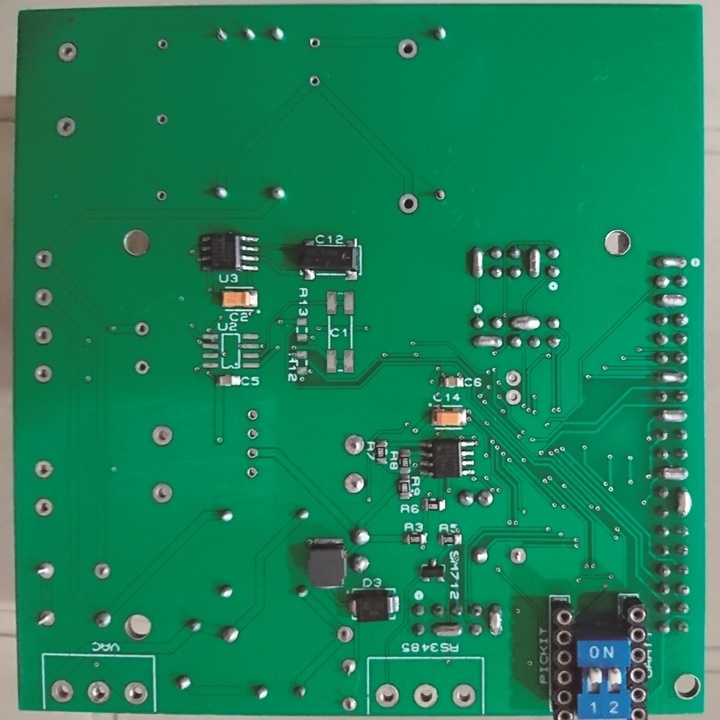F: (449, 681, 477, 712), (49, 677, 76, 706), (121, 680, 150, 706), (411, 683, 439, 709), (374, 683, 401, 709), (342, 431, 367, 459), (149, 481, 176, 506), (343, 469, 367, 497), (395, 35, 420, 61), (85, 680, 111, 704), (53, 115, 79, 138), (396, 191, 420, 215), (150, 424, 173, 449), (32, 497, 58, 519), (32, 324, 55, 347), (33, 560, 56, 583), (56, 40, 78, 63), (33, 247, 55, 270), (33, 286, 55, 309), (33, 362, 55, 385), (33, 459, 56, 481), (507, 545, 530, 567), (335, 623, 356, 646), (93, 561, 113, 582), (503, 369, 524, 389), (504, 388, 524, 409), (36, 609, 56, 629), (339, 658, 359, 678), (339, 695, 359, 714), (212, 26, 230, 46), (132, 358, 150, 377), (307, 33, 324, 51), (133, 320, 150, 338), (244, 408, 261, 424), (155, 188, 168, 208), (432, 186, 448, 202), (244, 446, 260, 462), (245, 466, 261, 481), (153, 38, 170, 52), (306, 74, 324, 87), (245, 427, 259, 441), (155, 112, 170, 125)
P: (652, 405, 690, 426), (467, 244, 487, 283), (653, 463, 691, 483), (430, 620, 466, 641), (651, 252, 690, 271), (487, 601, 505, 642), (674, 486, 695, 521), (653, 369, 690, 387), (651, 292, 689, 309), (507, 314, 542, 332), (526, 245, 543, 281), (469, 332, 505, 349)
